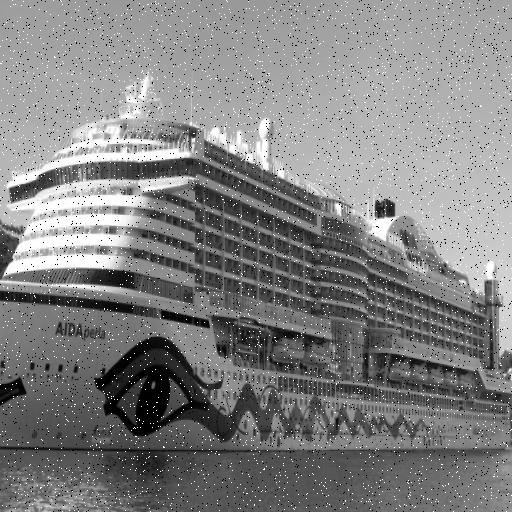cruises: (1, 64, 512, 472)
